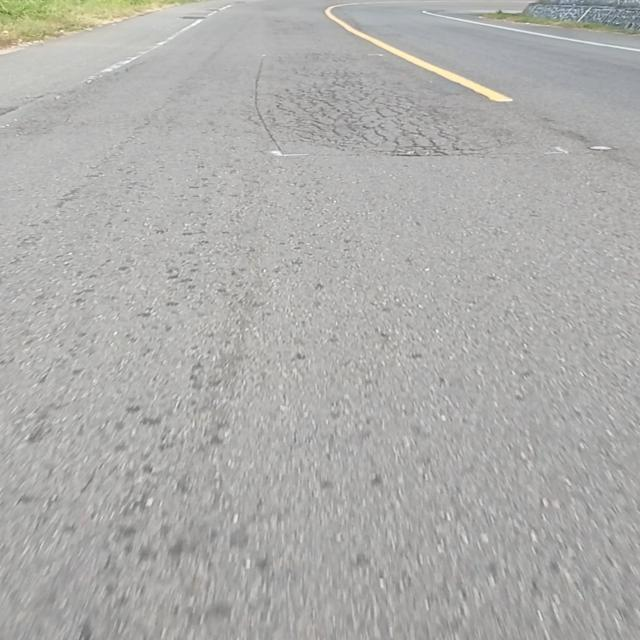Retak Buaya: (254, 53, 493, 159)
